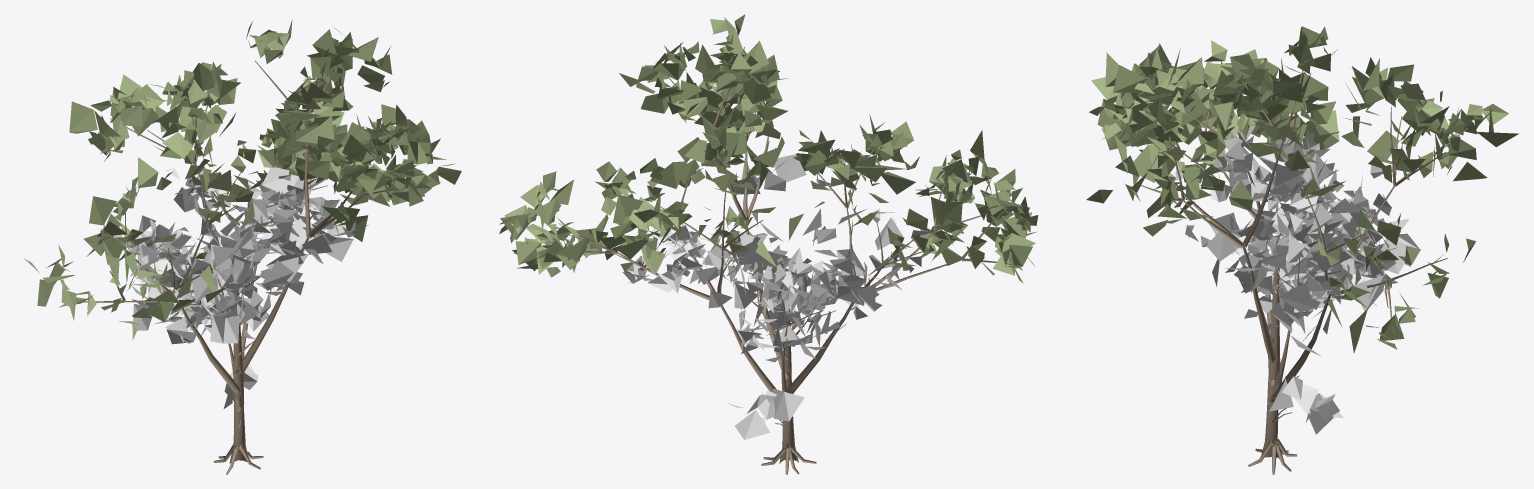
The model's file is tree-d.glb.
The picture shows the model from 3 angles, left to right: view 1: azimuth 30°, elevation 25°; view 2: azimuth 150°, elevation 25°; view 3: azimuth 270°, elevation 25°; orthographic projection. The views are drawn at different scales.
Visible parts, largest first — view 1: leafB, leafBDeep, wood; view 2: leafB, leafBDeep, wood; view 3: leafB, leafBDeep, wood.
Part boxes in pixels (<box>): leafB: <box>24,20,461,340</box>; leafBDeep: <box>114,166,368,408</box>; wood: <box>76,60,396,474</box>; leafB: <box>499,14,1038,283</box>; leafBDeep: <box>622,154,931,439</box>; wood: <box>544,47,1011,474</box>; leafB: <box>1086,26,1518,353</box>; leafBDeep: <box>1155,125,1419,434</box>; wood: <box>1141,63,1467,474</box>.
Size of the model in its own units: 10.98 by 9.35 by 7.93.
